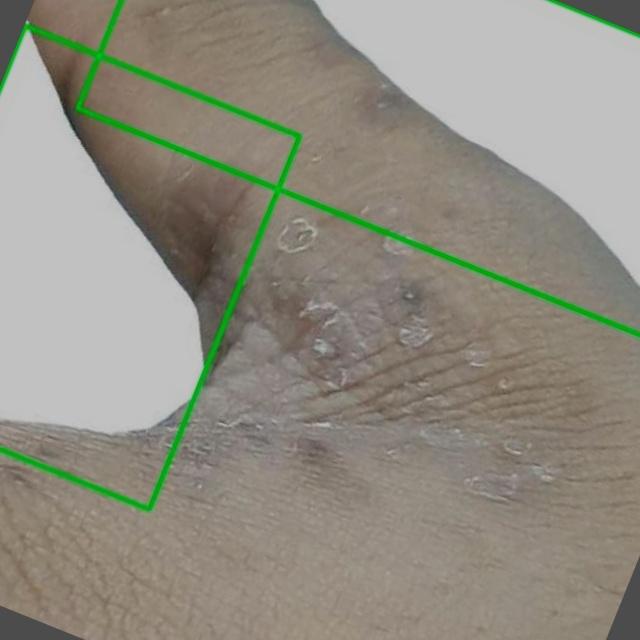Scabies: (77, 0, 639, 334), (0, 25, 299, 509)
